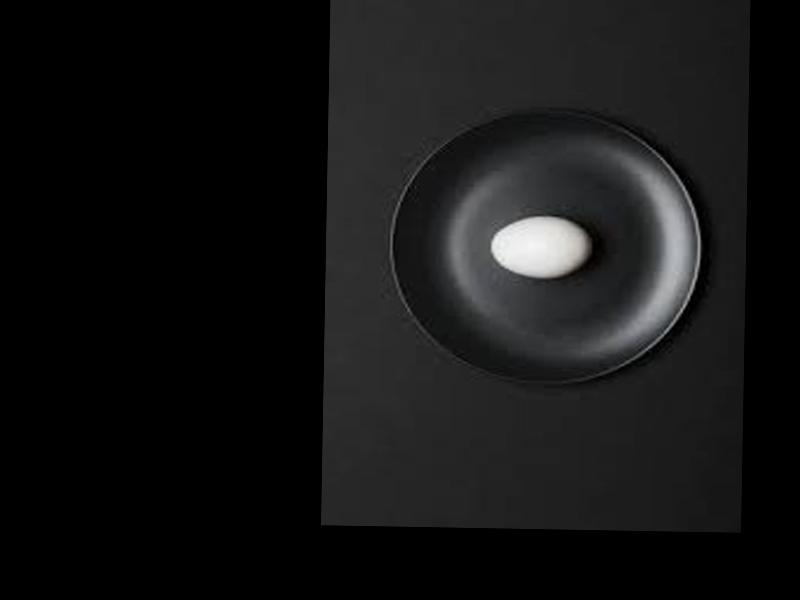Eggs: (491, 215, 590, 280)
